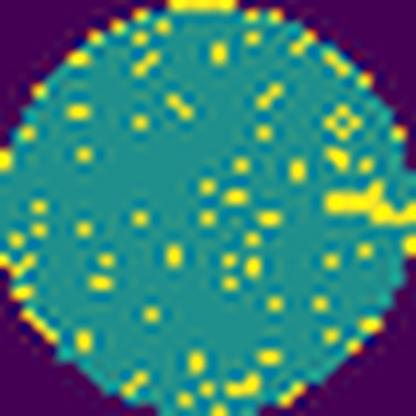Loc: (320, 174, 416, 226)
